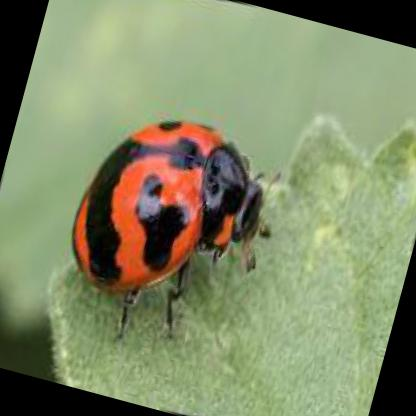uroleucon compositae: (70, 118, 271, 301)
